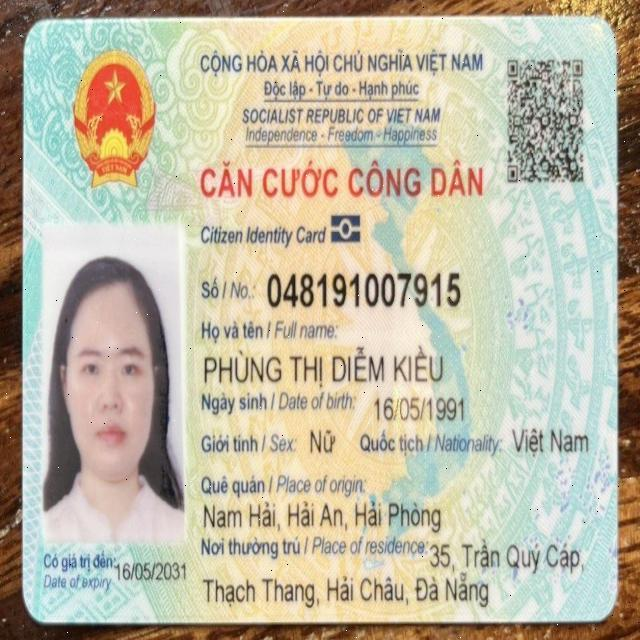current_place: (200, 567, 494, 613), (427, 539, 586, 575)
dob: (374, 392, 466, 425)
expire_date: (112, 558, 189, 585)
gender: (308, 420, 336, 458)
id: (264, 269, 465, 310)
name: (201, 346, 448, 388)
nationality: (509, 423, 590, 463)
origin_place: (202, 497, 446, 532)
